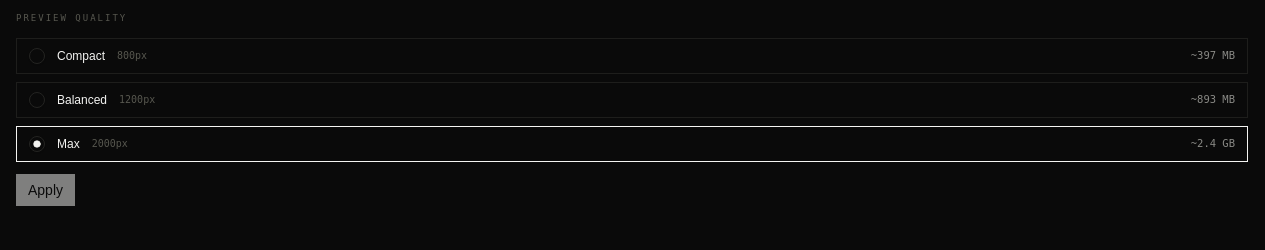
QualityPicker › disables Apply until a different step is selected
Expected: the button "Apply" is disabled, left=16, top=174, right=75, bottom=206
Click the radio button named "Compact" next to "Compact": (37, 56) left=29, top=48, right=45, bottom=64
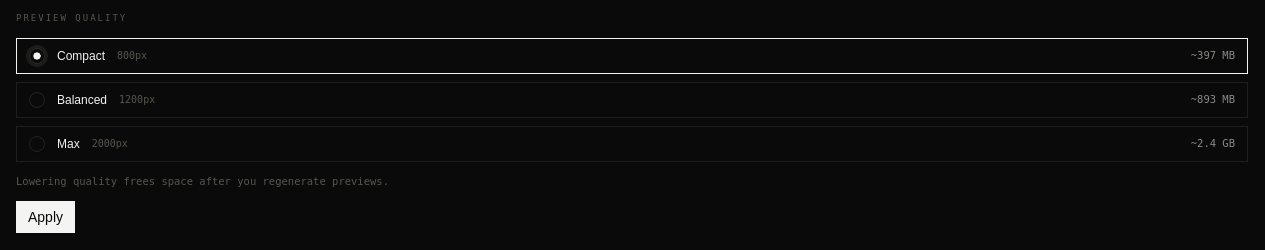
Now the button "Apply" is enabled, box left=16, top=201, right=75, bottom=233
